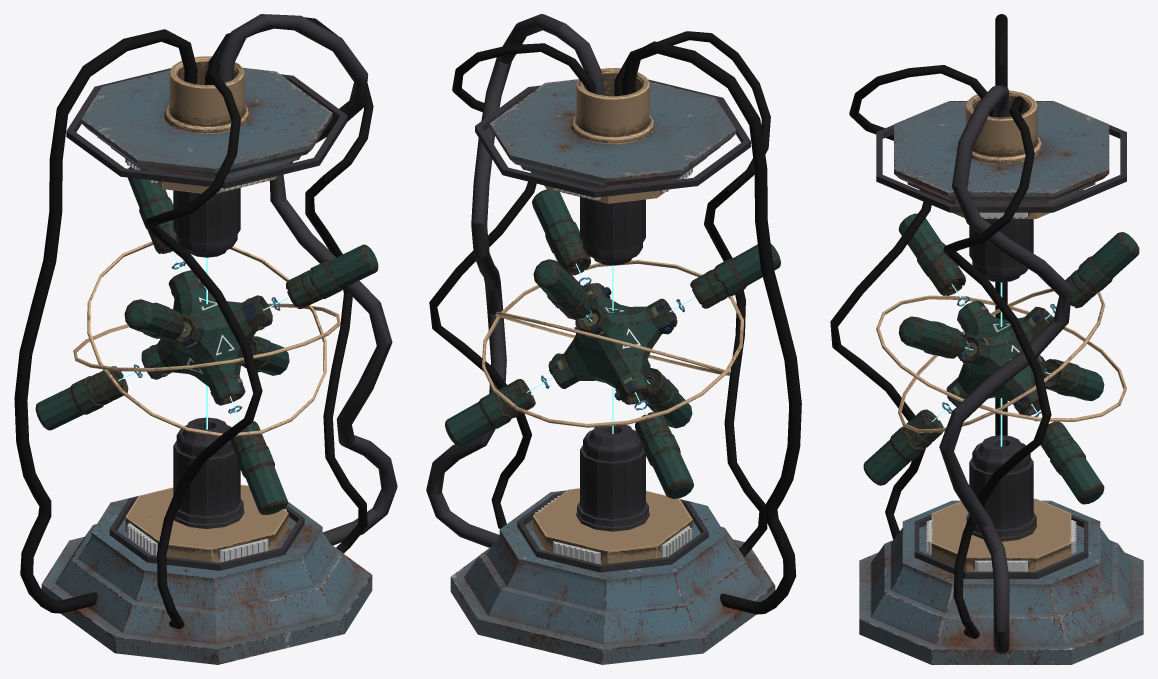
File: showcaseParticleCore.5443d9a9.glb
3 renders of one model, left to right at view 1: azimuth 30°, elevation 25°; view 2: azimuth 150°, elevation 25°; view 3: azimuth 270°, elevation 25°, orthographic. The views are drawn at different scales.
Parts seen in each view (by area): view 1: polySurface185 (×2); view 2: polySurface185 (×2); view 3: polySurface185 (×2).
Boxes of the visible parts, box(x1,y1,x2,y2) form: polySurface185 (×2): box(14, 14, 397, 664); polySurface185 (×2): box(426, 14, 801, 664); polySurface185 (×2): box(830, 14, 1143, 664).
Size of the model in its own units: 1.39 by 2 by 1.03.
2 materials, 2 textured.
